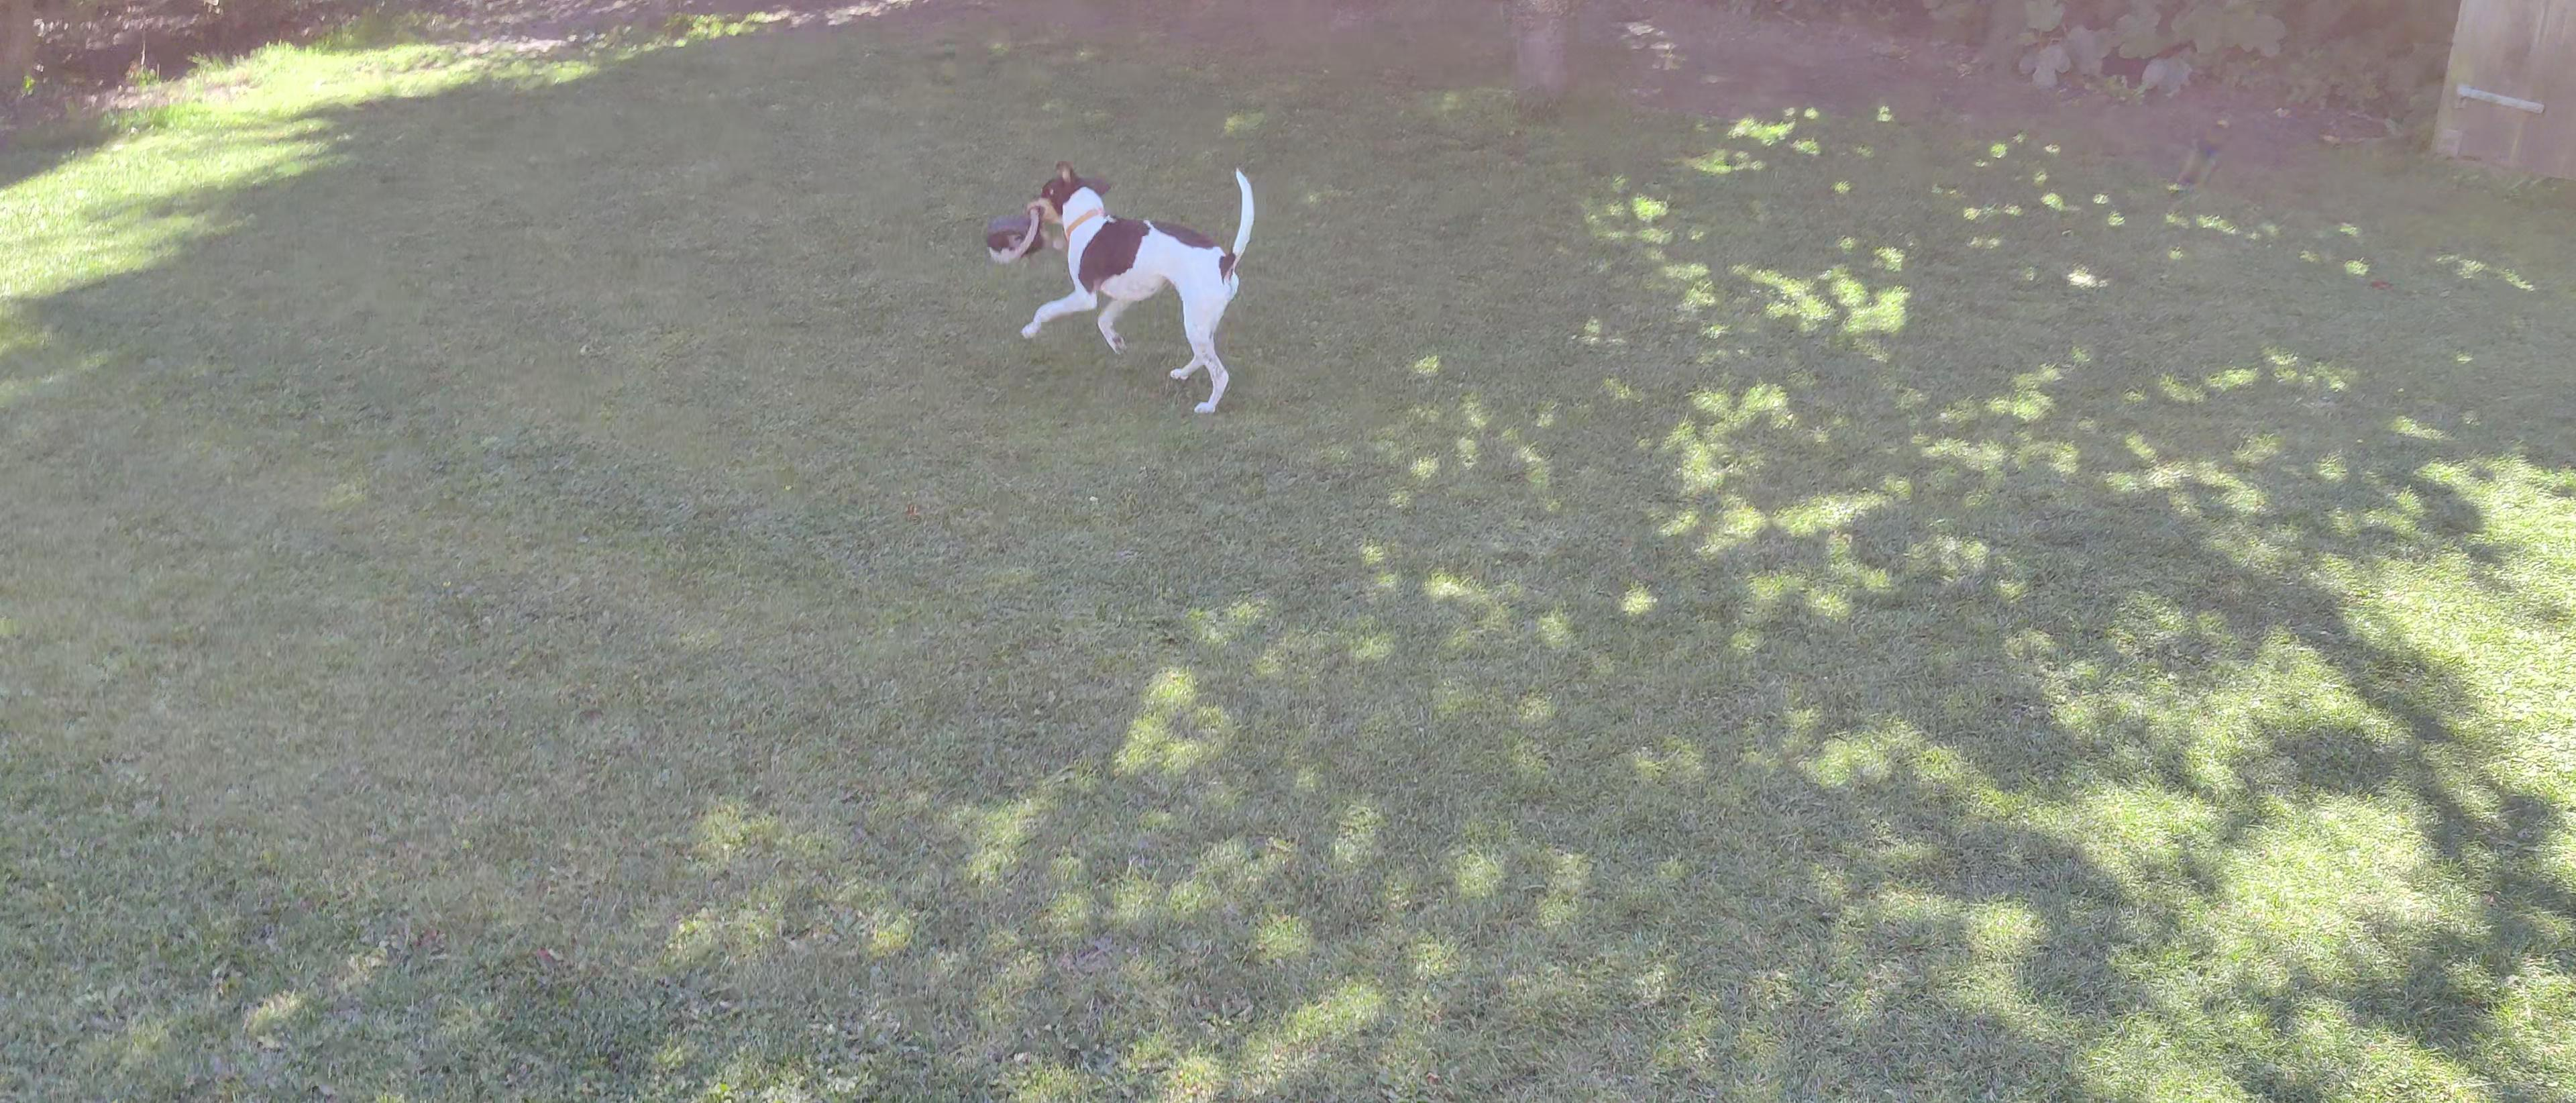Dog: (999, 138, 1273, 431)
